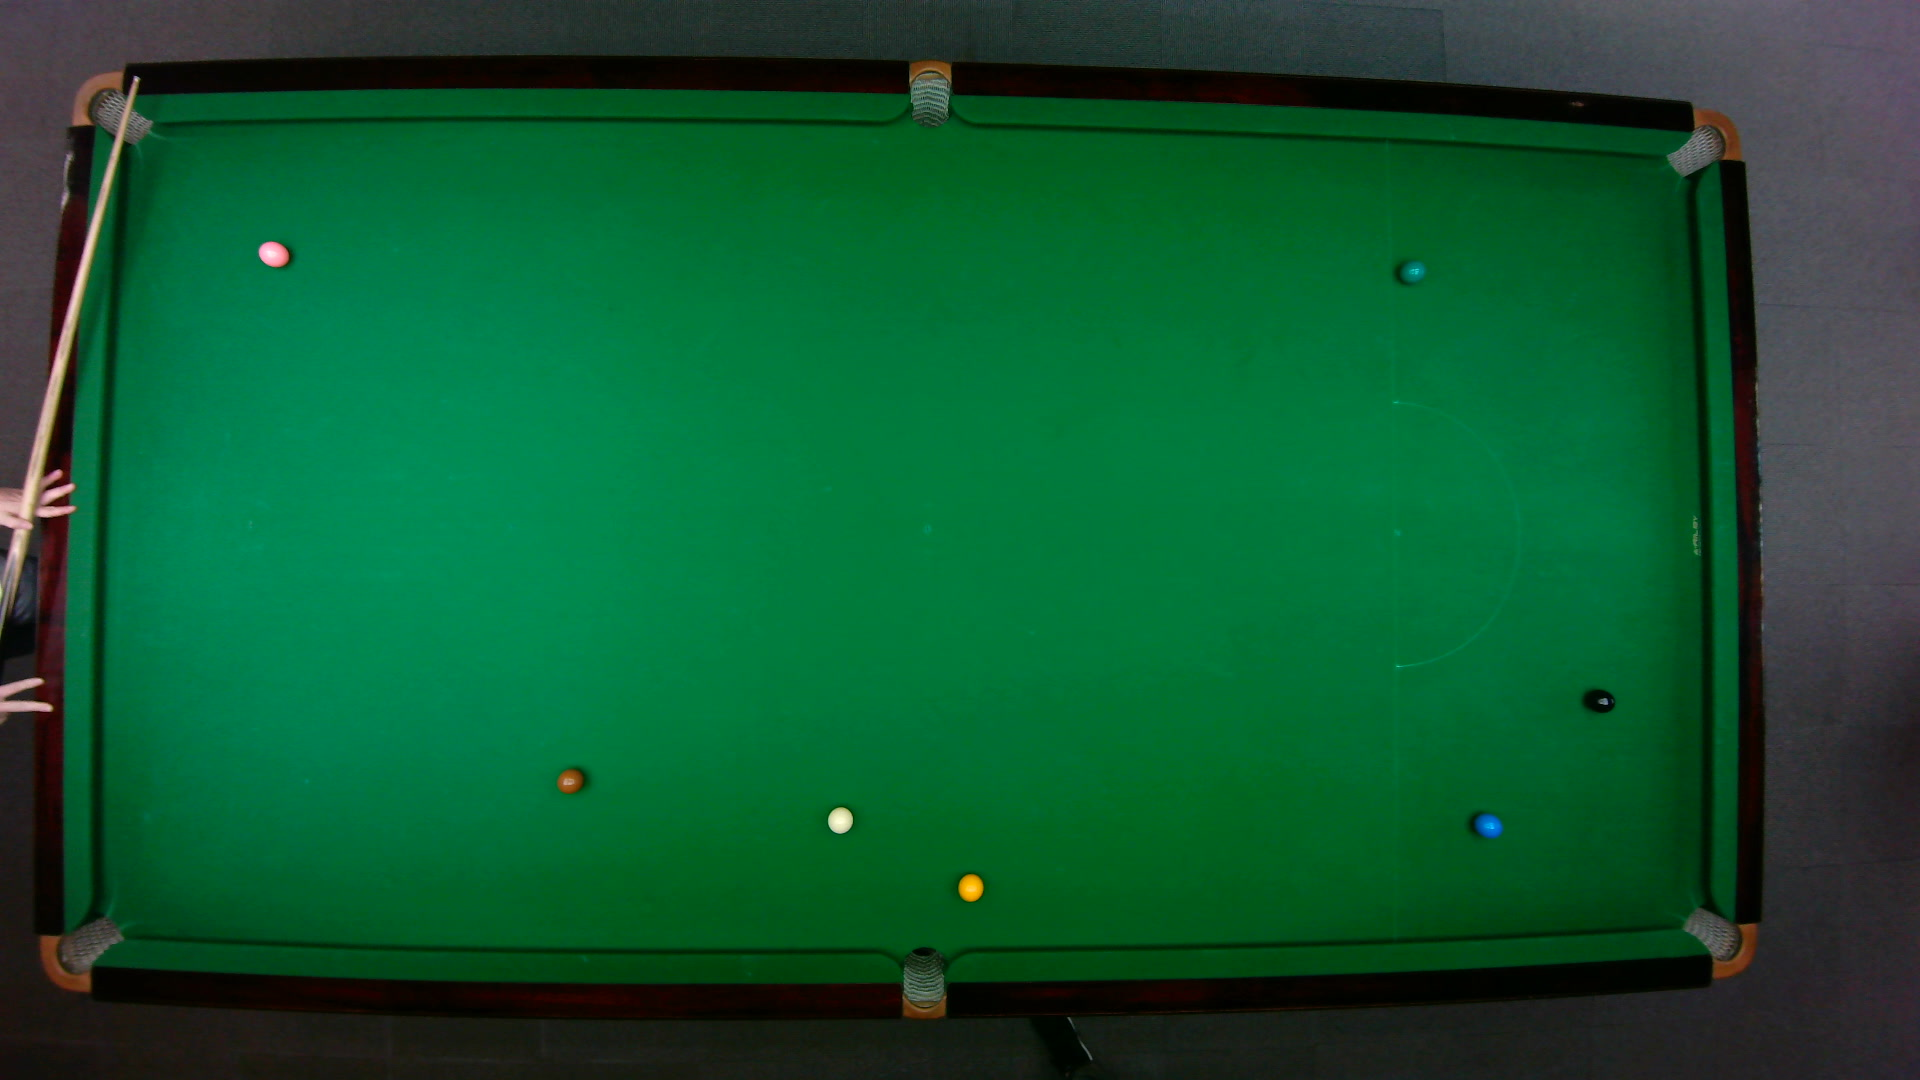bag: (38, 915, 125, 993), (69, 69, 149, 145), (1679, 905, 1756, 978), (1663, 108, 1741, 177), (901, 944, 945, 1021), (909, 57, 949, 128)
black: (1584, 687, 1615, 713)
blue: (1472, 811, 1503, 839)
brown: (555, 766, 584, 794)
cue: (1, 73, 145, 636)
green: (1396, 257, 1425, 284)
pink: (256, 237, 290, 268)
white: (825, 804, 855, 833)
yellow: (955, 872, 985, 901)
zone: (1391, 400, 1520, 669)
